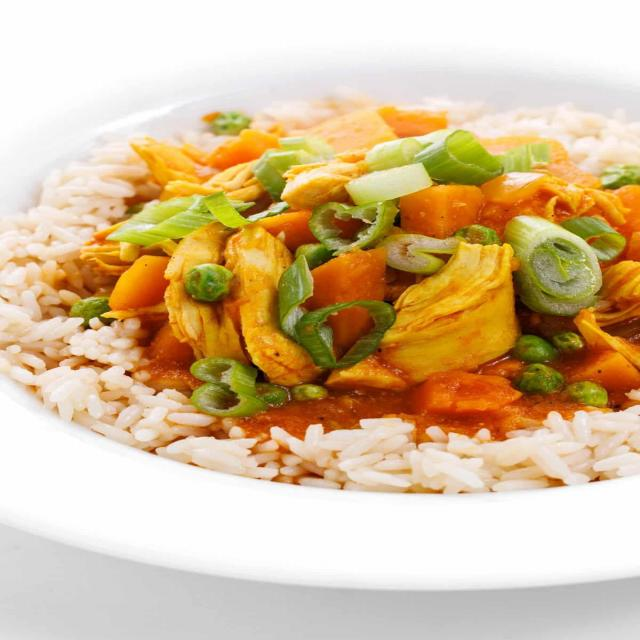chicken: (138, 115, 640, 407)
rice: (0, 162, 173, 467), (210, 420, 640, 515)
